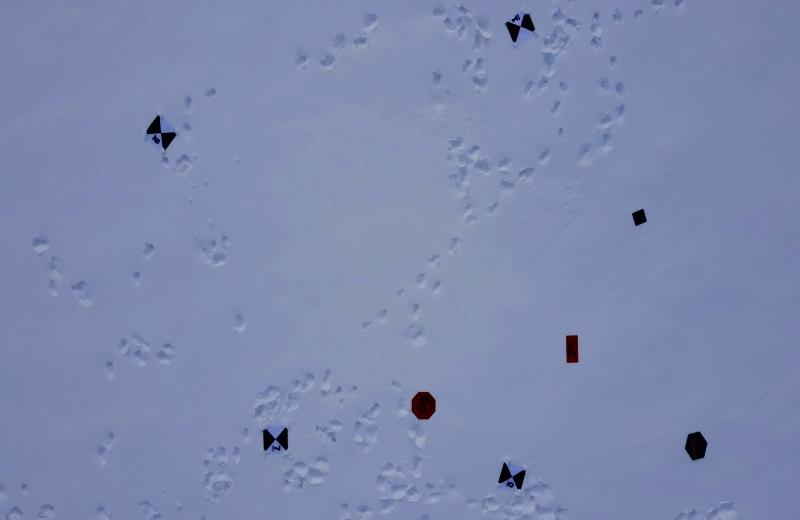Hexagon: (684, 429, 708, 462)
Octagon: (406, 386, 442, 423)
Rectangle: (562, 328, 582, 370)
Square: (628, 204, 648, 231)
